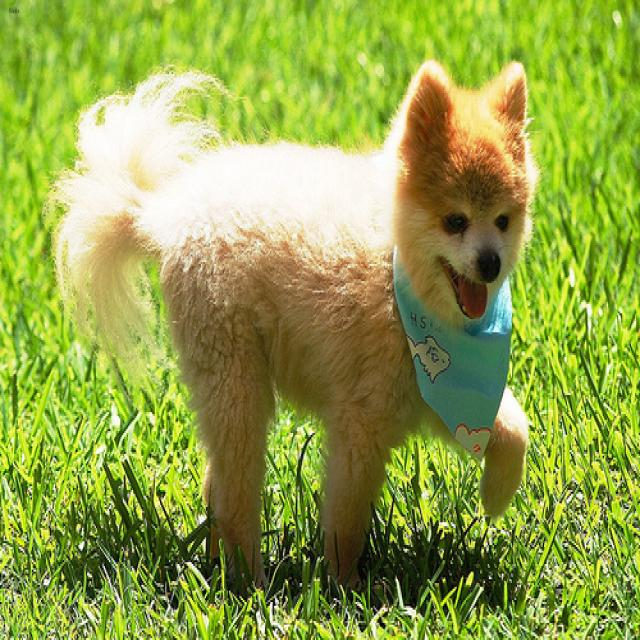dog-pomeranian: (42, 47, 545, 608)
